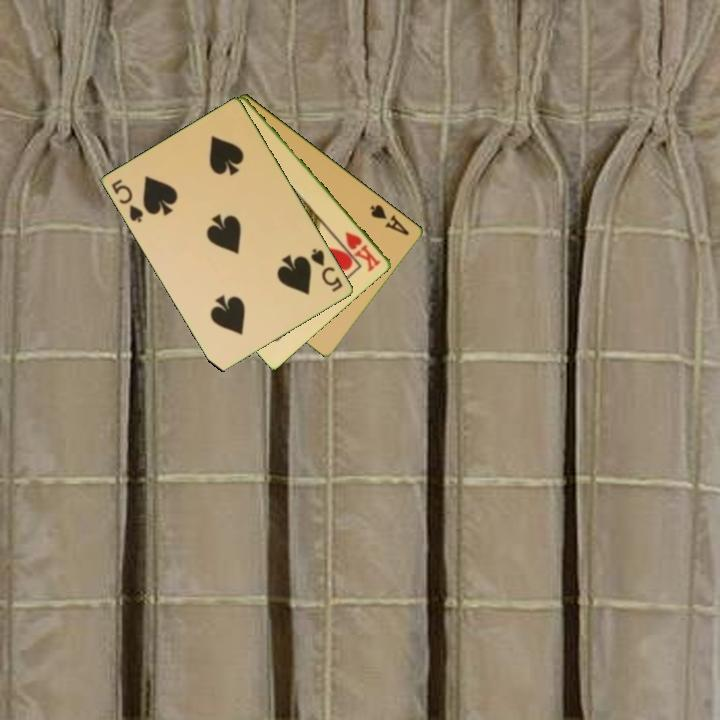5s: (307, 245, 346, 295), (108, 176, 147, 226)
As: (366, 201, 413, 238)
Kh: (342, 228, 384, 275)
